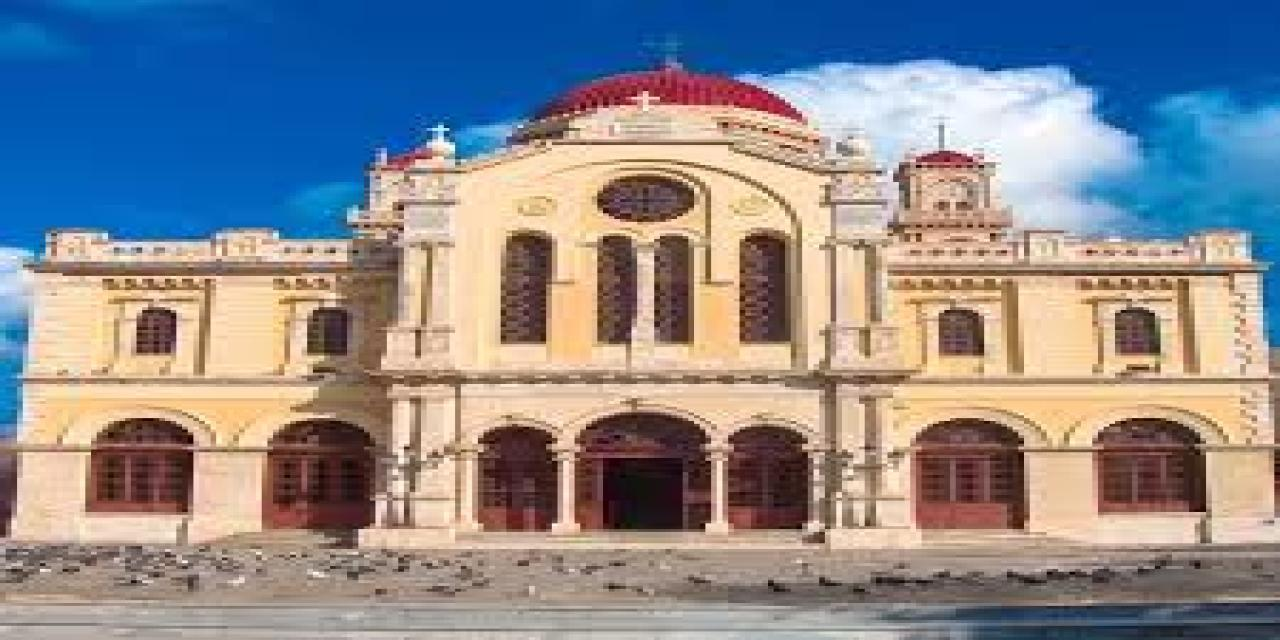Agios Minas: (9, 37, 1280, 551)
